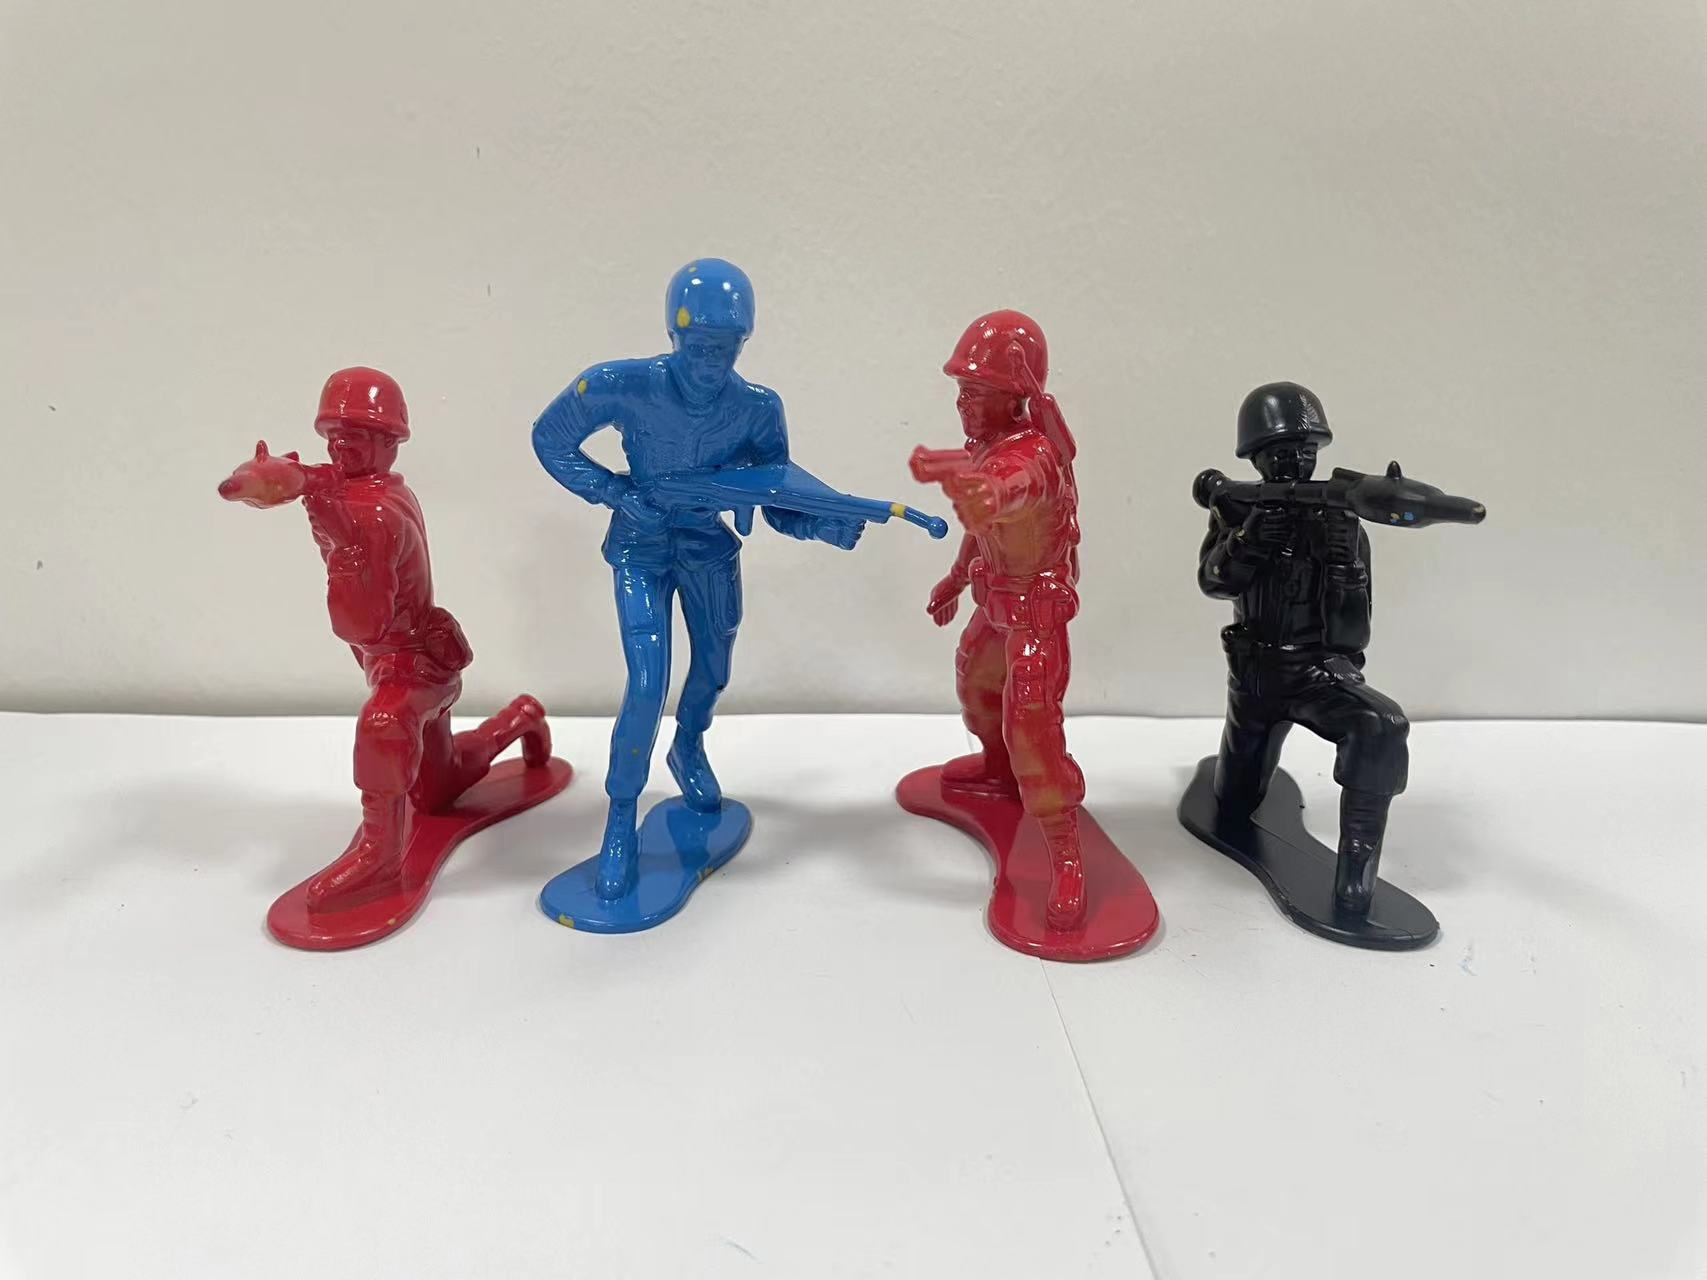black: (1176, 367, 1505, 987)
blue: (517, 204, 886, 963)
red: (160, 272, 550, 999), (880, 286, 1159, 994)
